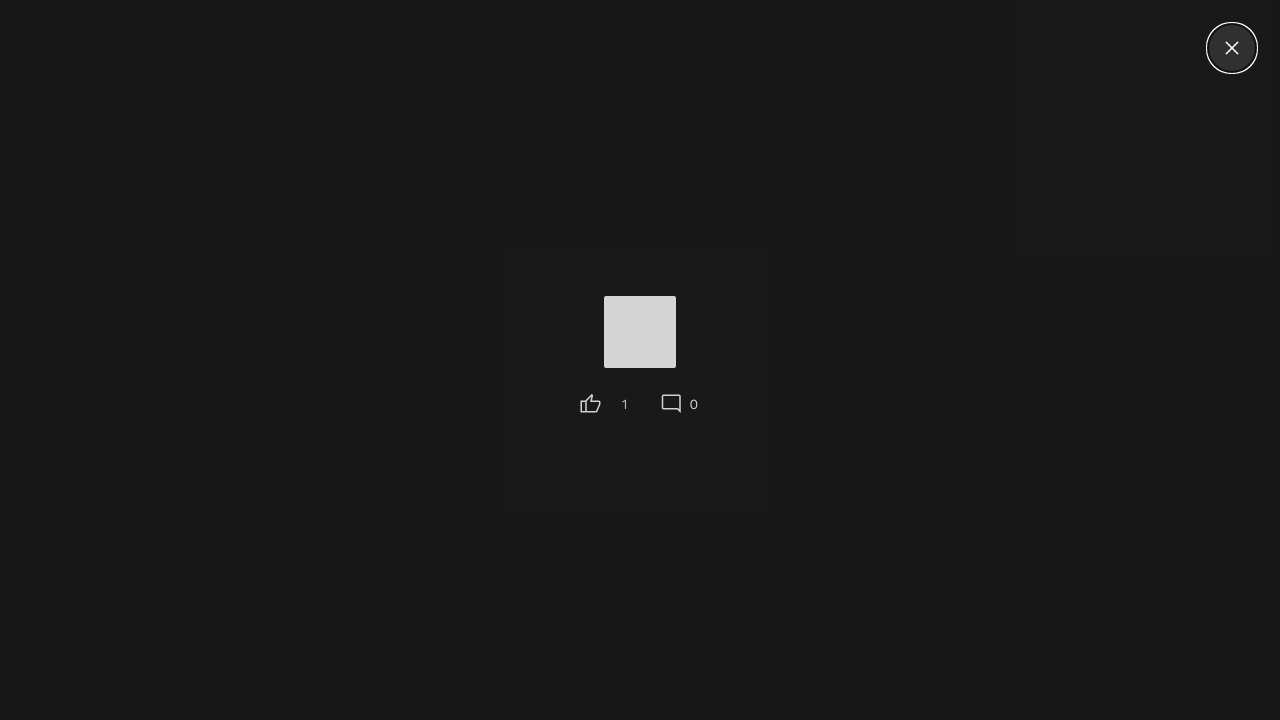
it: PhotoLightbox › Escape closes the comments panel without also closing the lightbox
Click the button named "View comments (0)" at (679, 404), box [647,386,710,422]
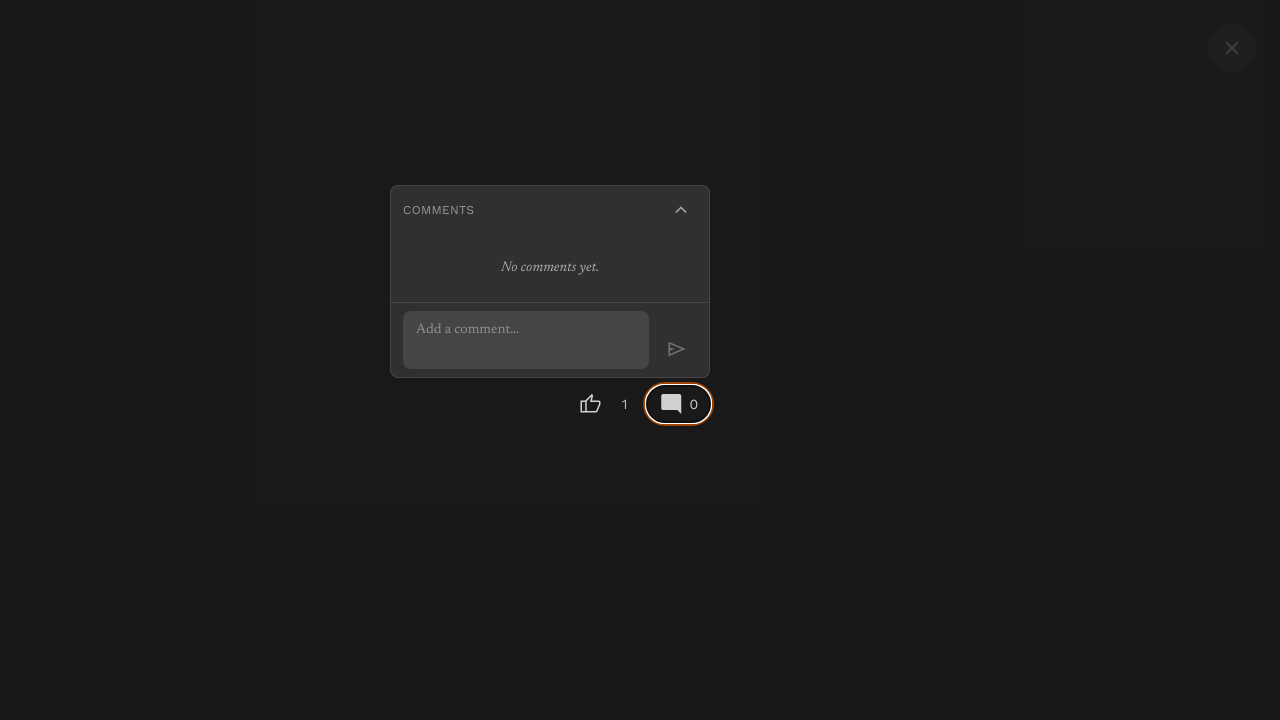
Expected: the text "No comments yet." is shown, [501,261,599,275]
Press Escape
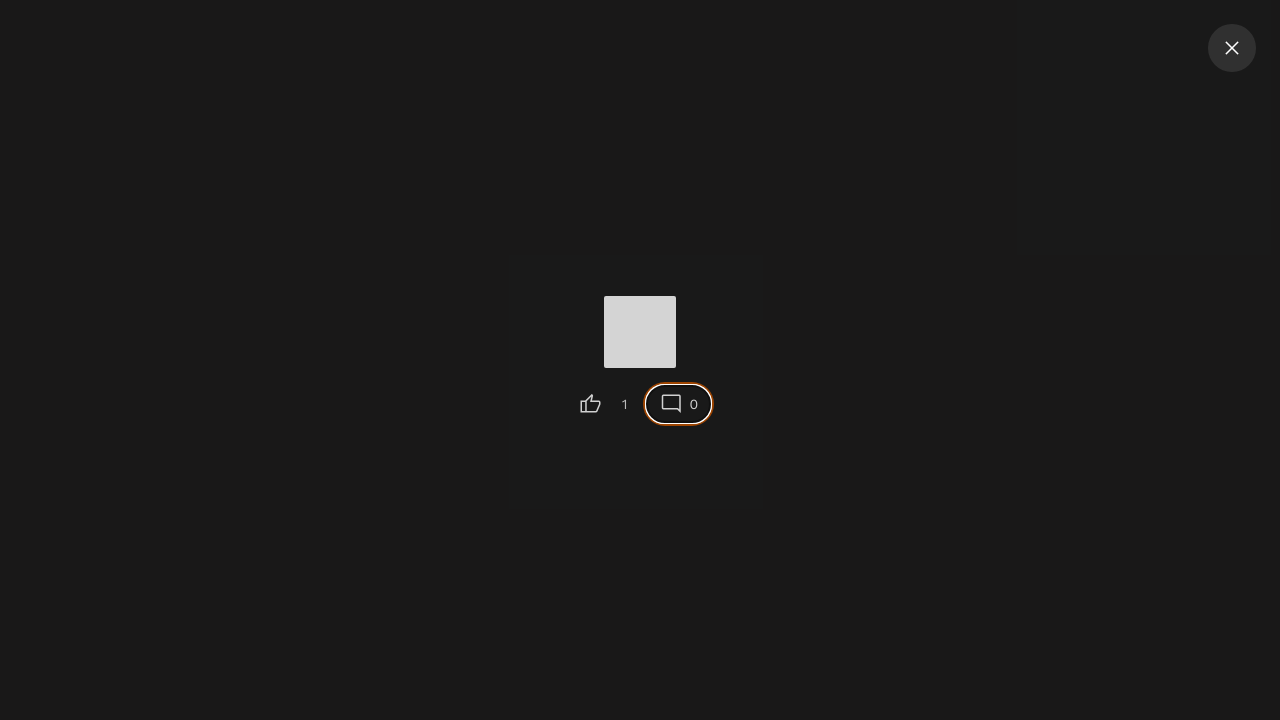
Expected: the text "No comments yet." is gone
